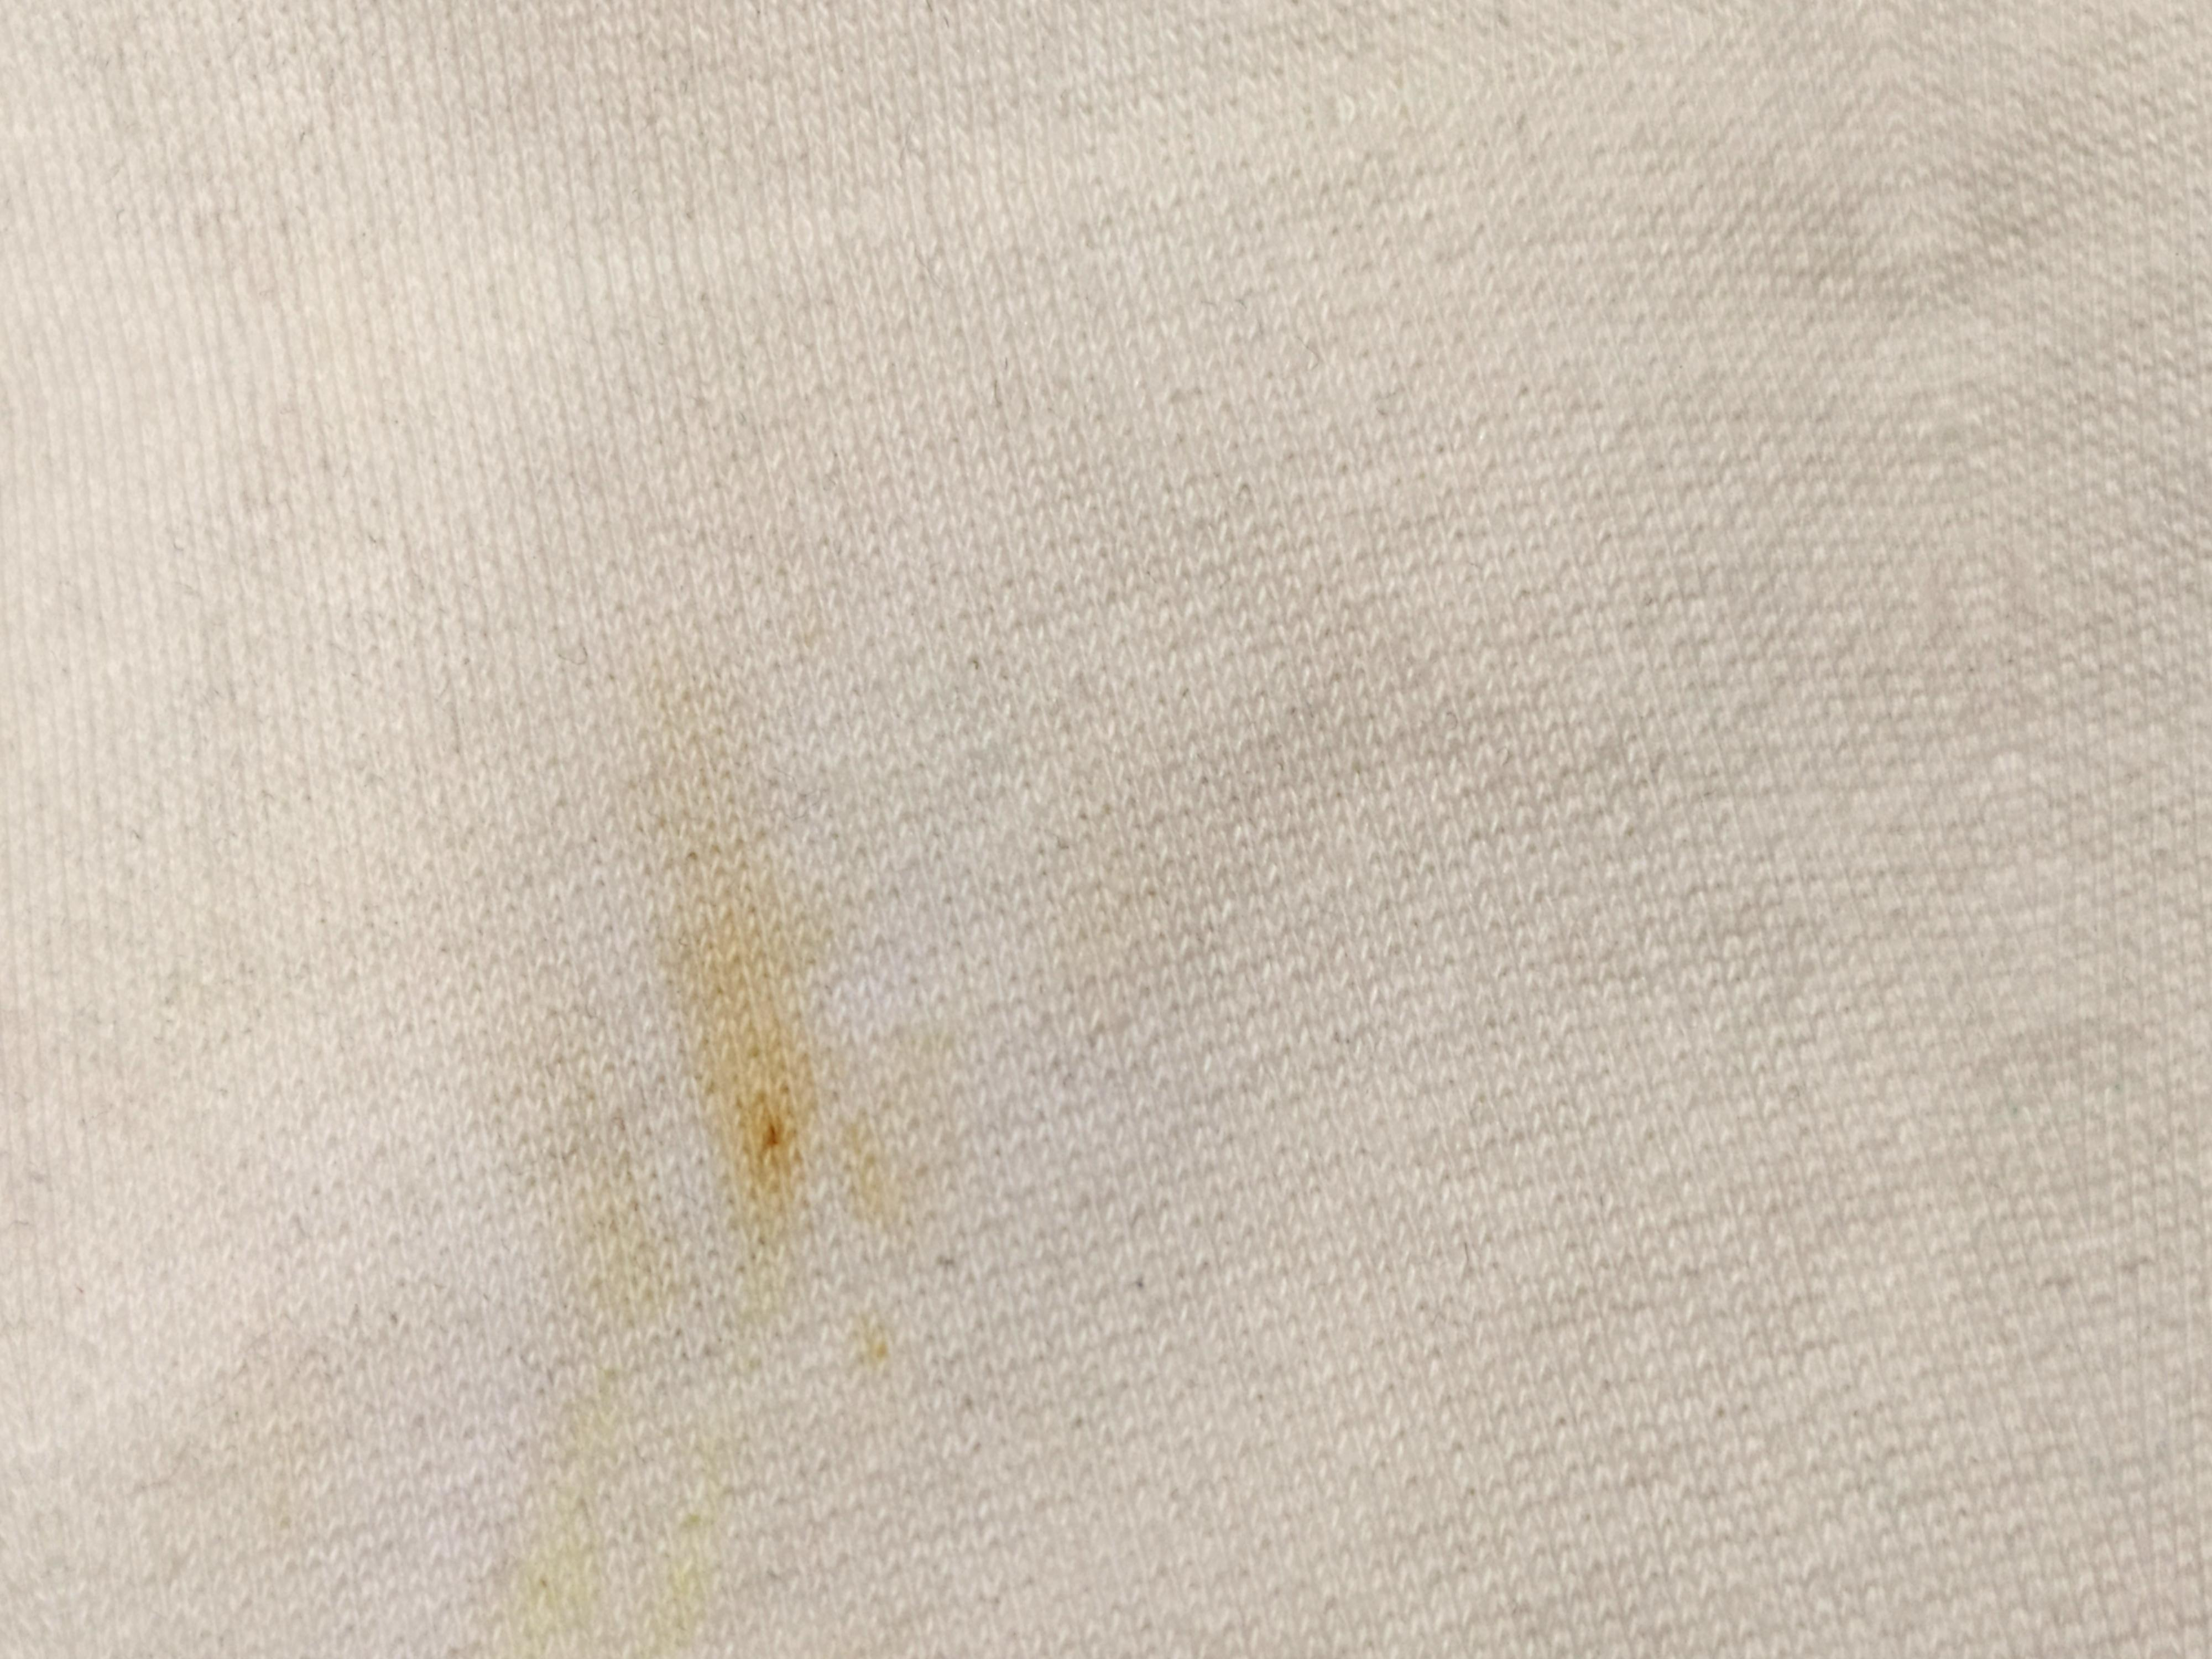stain: (625, 871, 885, 1279)
